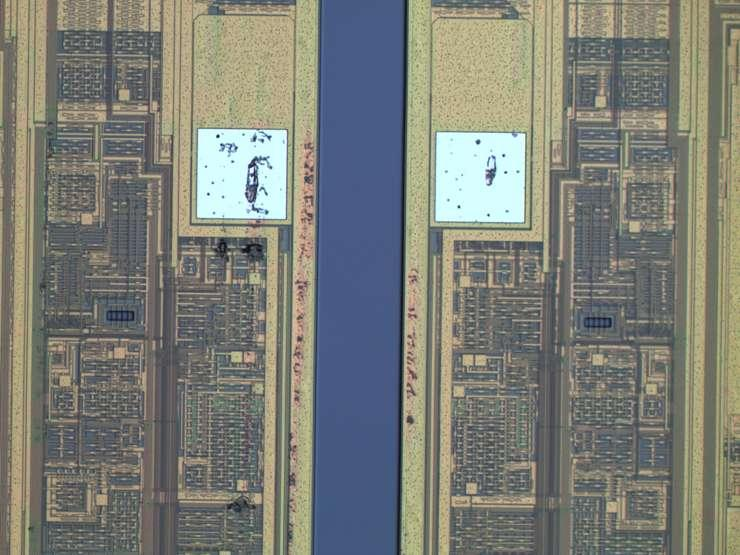SCRATCH: (201, 126, 531, 547)
